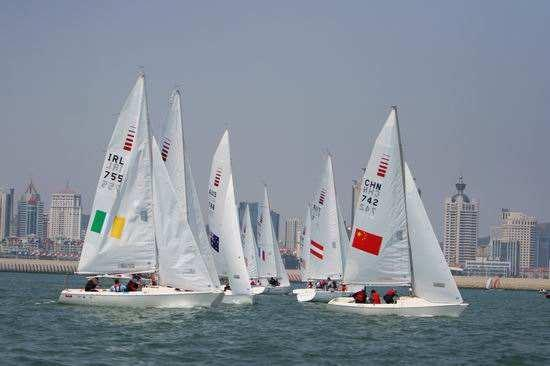fanchuan: (57, 65, 223, 310), (321, 105, 481, 314), (282, 152, 356, 302), (200, 131, 257, 306), (250, 182, 291, 293)
